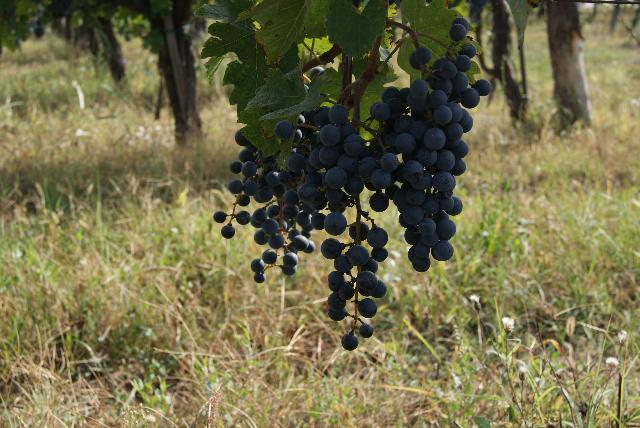grapes: (315, 86, 422, 350), (372, 48, 490, 271), (229, 144, 329, 282)
